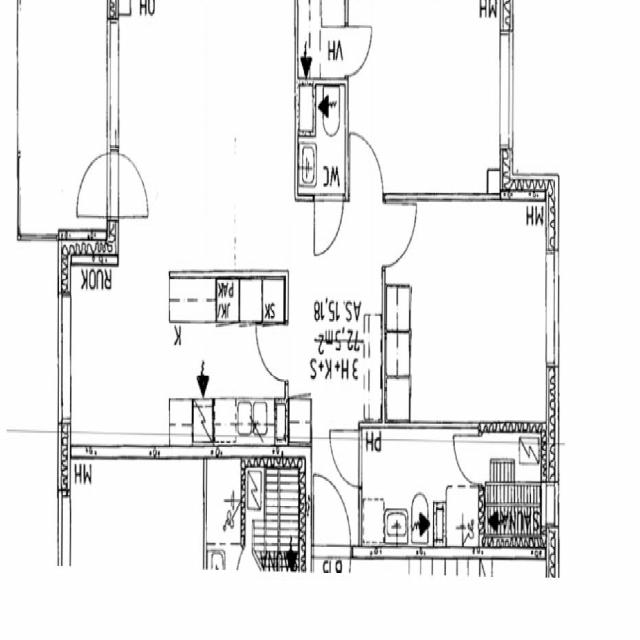door: (314, 545, 351, 629), (314, 473, 351, 557), (108, 152, 152, 216), (74, 152, 118, 216), (383, 204, 418, 267), (350, 133, 382, 200), (329, 430, 362, 487), (314, 193, 343, 256), (256, 327, 288, 382), (453, 435, 485, 484), (345, 25, 374, 76)
